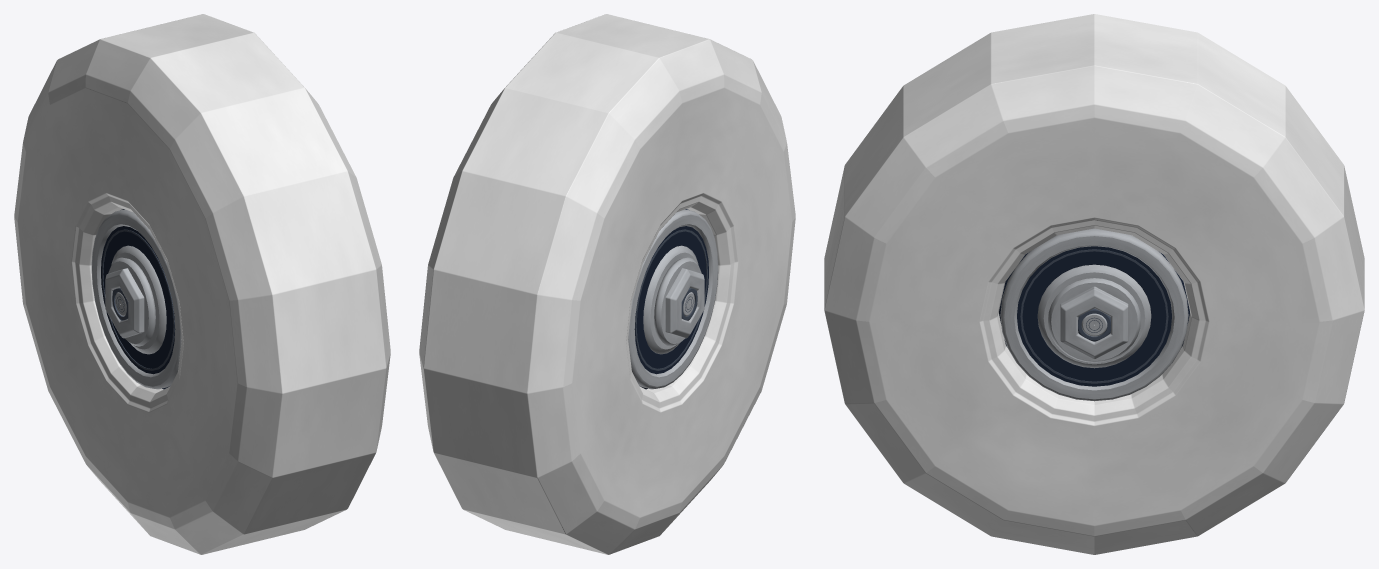
Rendered from skate.glb.
3 renders of one model, left to right at view 1: azimuth 30°, elevation 25°; view 2: azimuth 150°, elevation 25°; view 3: azimuth 270°, elevation 25°, orthographic. The views are drawn at different scales.
Visible parts, largest first — view 1: skate_material_batches; view 2: skate_material_batches; view 3: skate_material_batches.
Part boxes in pixels (<box>): skate_material_batches: <box>14,14,390,554</box>; skate_material_batches: <box>419,14,795,554</box>; skate_material_batches: <box>824,14,1364,554</box>.
Size of the model in its own units: 0.24 by 0.66 by 0.66.
Materials: 4 (2 with a texture image).
